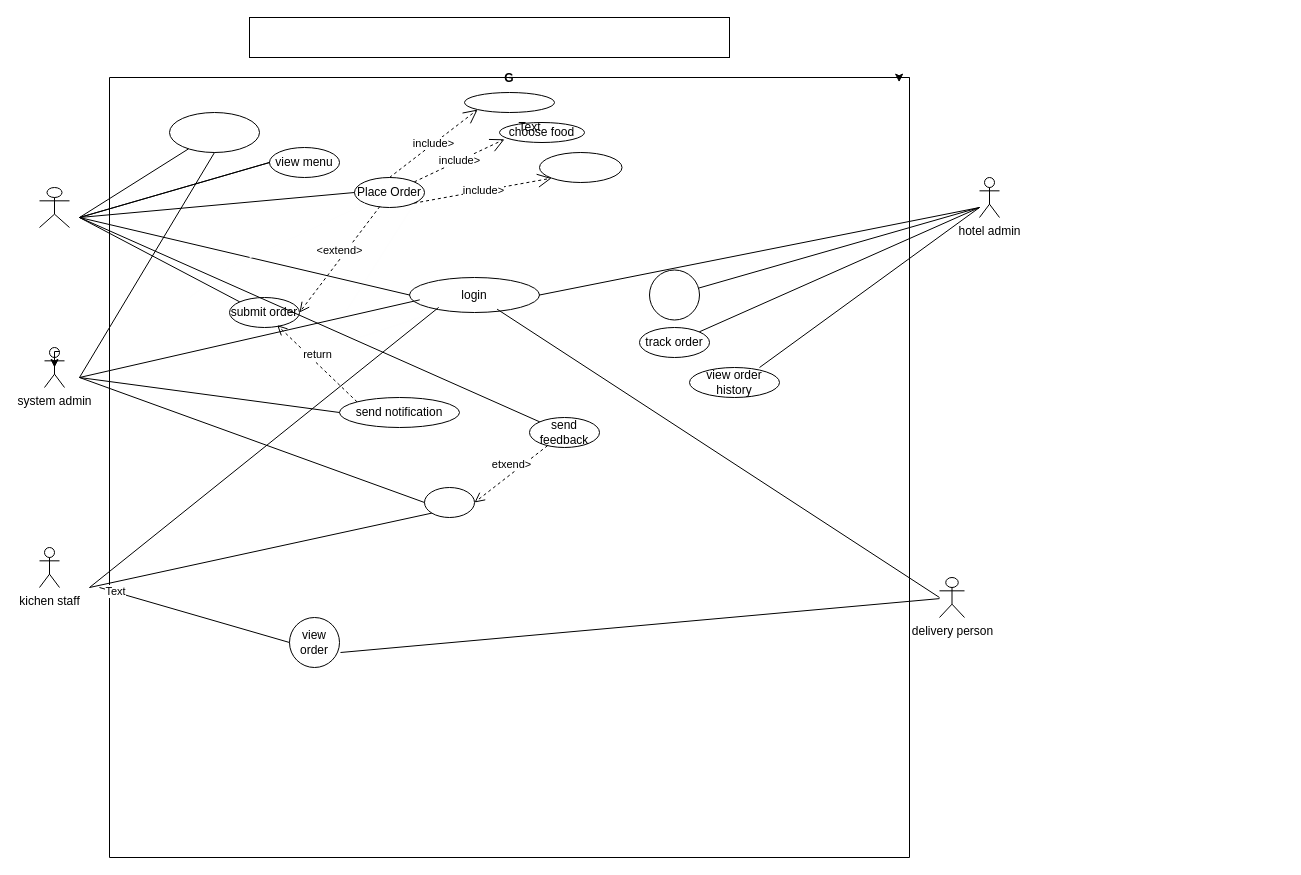
This 1301x875 diagram has some shape labels left out. Here are the shapes that lost their labels. From the top down, the centre of each, then its label:
At [489,37]: "FOOD DELIVERY MANAGMENT SYSTER OF BERNOS HOTEL".
At [509,102]: "make payment".
At [214,132]: "Browse".
At [580,167]: "choose drnk".
At [54,207]: "customer".
At [674,294]: "update menu".
At [449,502]: "view feedback".
